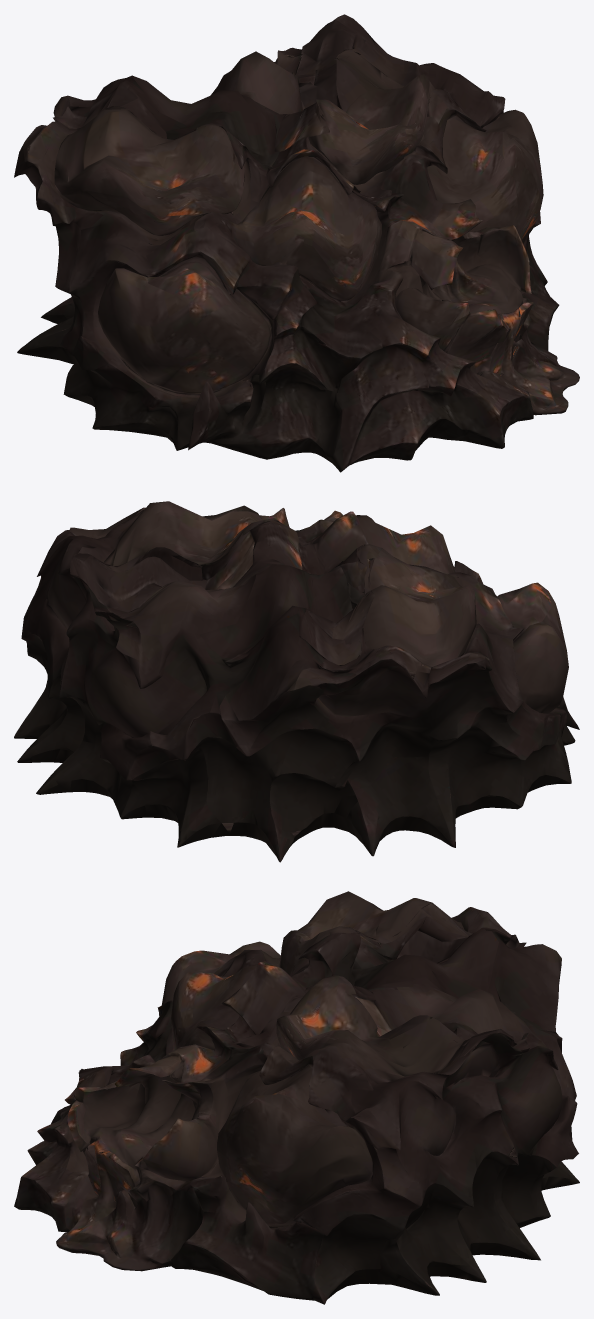
File: SM_HiveEggCluster_Destroyed.glb
The picture shows the model from 3 angles, top to bottom: view 1: azimuth 30°, elevation 25°; view 2: azimuth 150°, elevation 25°; view 3: azimuth 270°, elevation 25°; orthographic projection. The views are drawn at different scales.
Parts seen in each view (by area): view 1: SM_HiveEggCluster_Destroyed; view 2: SM_HiveEggCluster_Destroyed; view 3: SM_HiveEggCluster_Destroyed.
Part boxes in pixels (x1,y1,x2,y2): SM_HiveEggCluster_Destroyed: [14, 14, 579, 472]; SM_HiveEggCluster_Destroyed: [14, 501, 579, 862]; SM_HiveEggCluster_Destroyed: [14, 891, 579, 1304].
Bounding box in the file's own units: 1.85 × 0.8408 × 1.91.
Materials: 1 (1 with a texture image).
